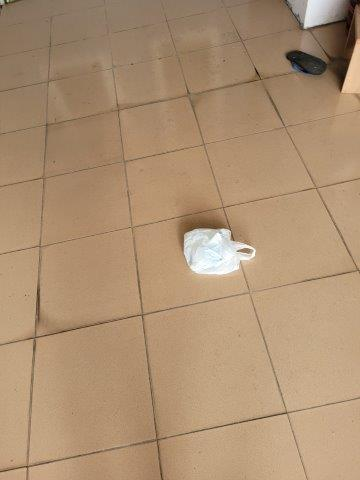plastik: (185, 228, 256, 276)
